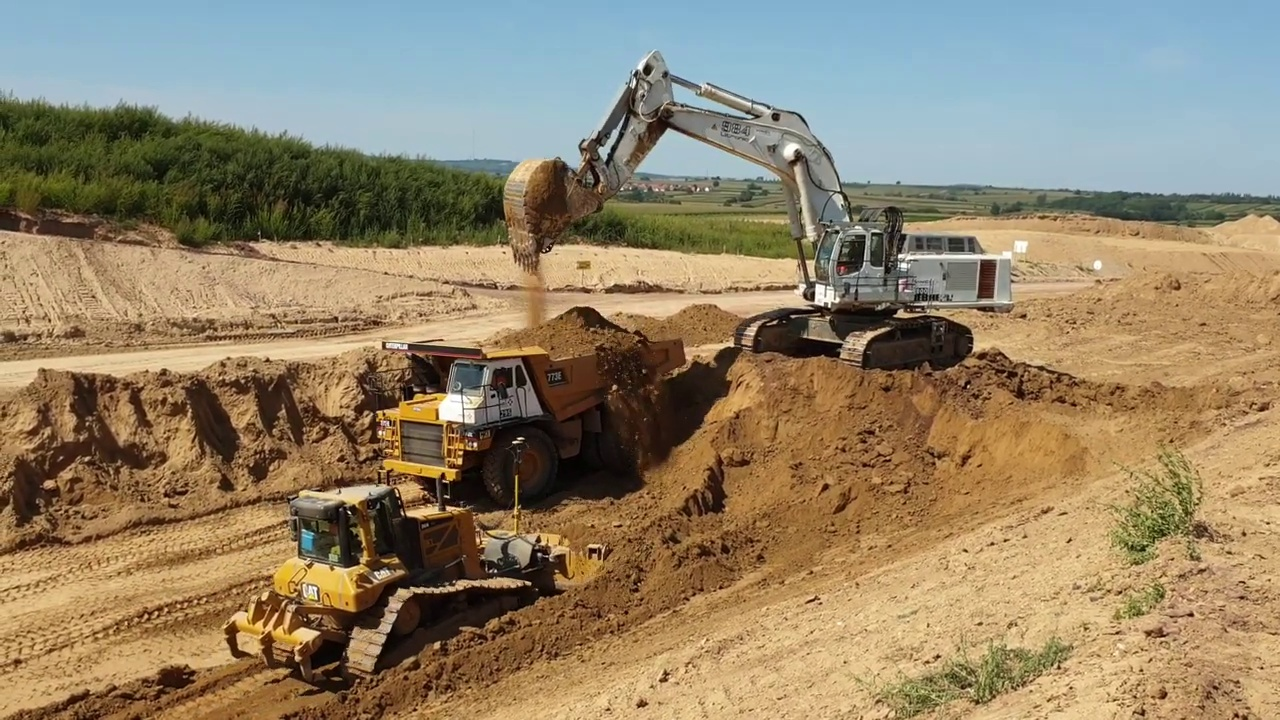bulldozer: (218, 436, 619, 696)
excavator: (494, 44, 1019, 379)
truck: (377, 319, 692, 509)
